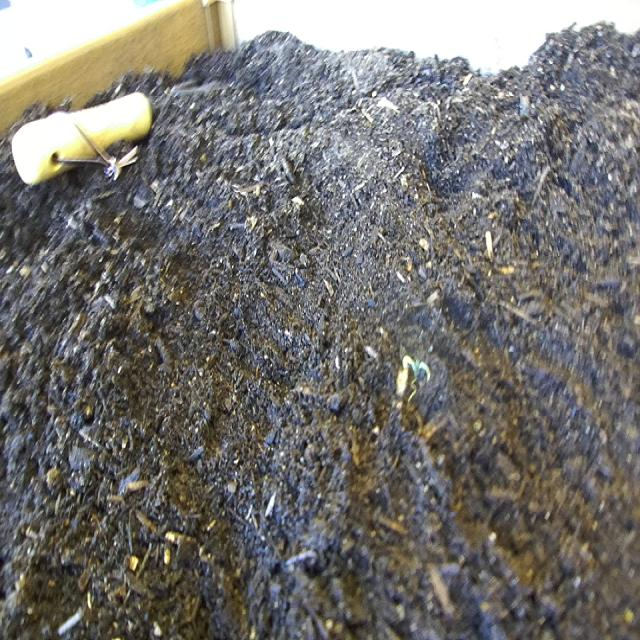Unhealthy: (391, 331, 439, 430)
